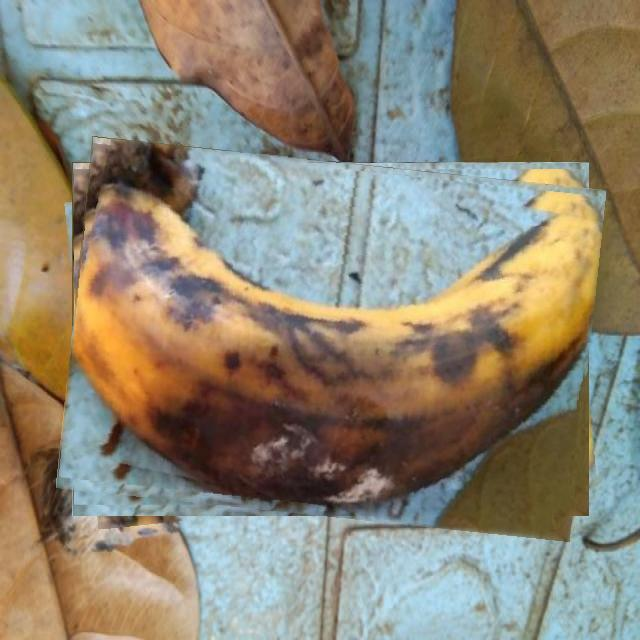Execivamente Madura: (63, 150, 598, 530)
